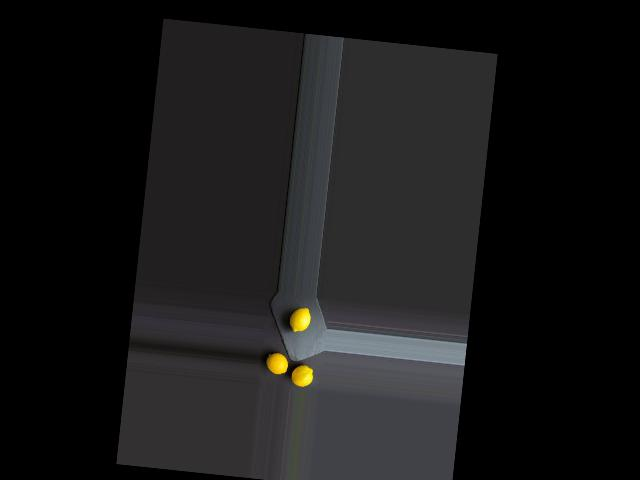lemon: (289, 362, 315, 389)
